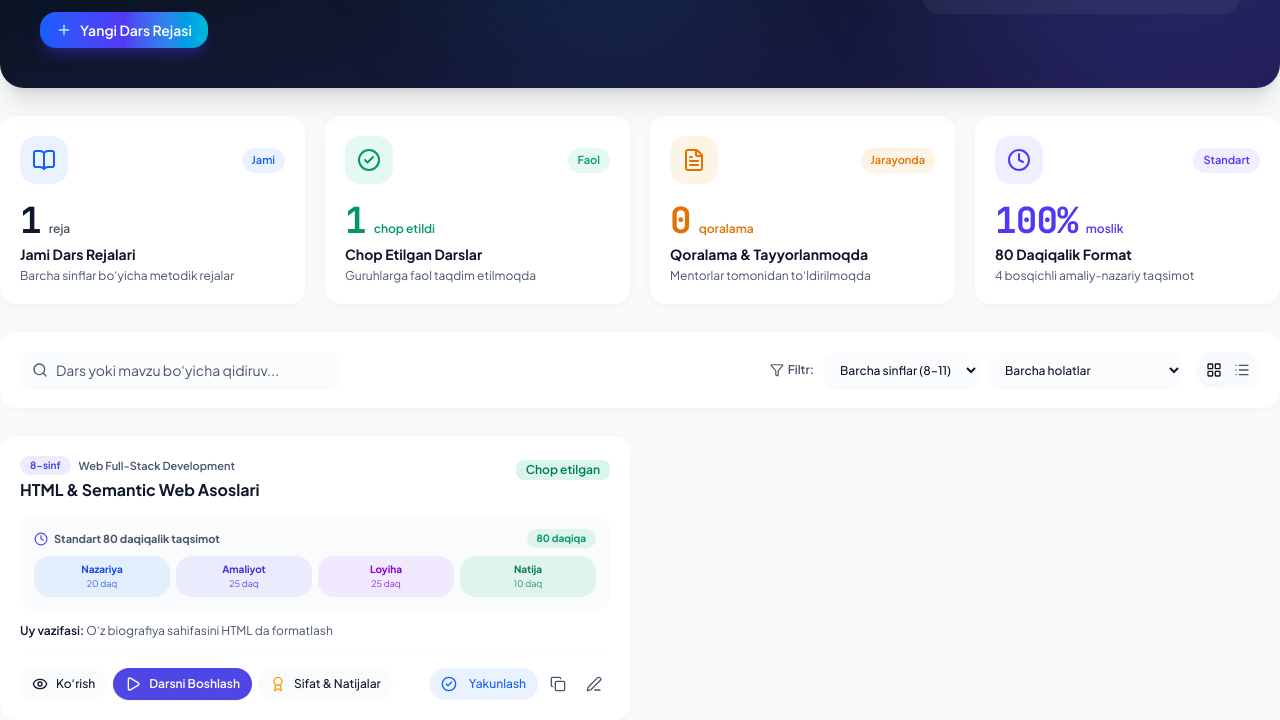
Test: Modules 08 - 11 Frontend Integration Tests › Module 08: LessonManager › toggles interactive presentation delivery mode
(page scrolled)
Expected: the heading "HTML & Semantic Web Asoslari" is shown, [20,479,260,501]
Click the button "Darsni Boshlash": (183, 684) [113,668,252,700]
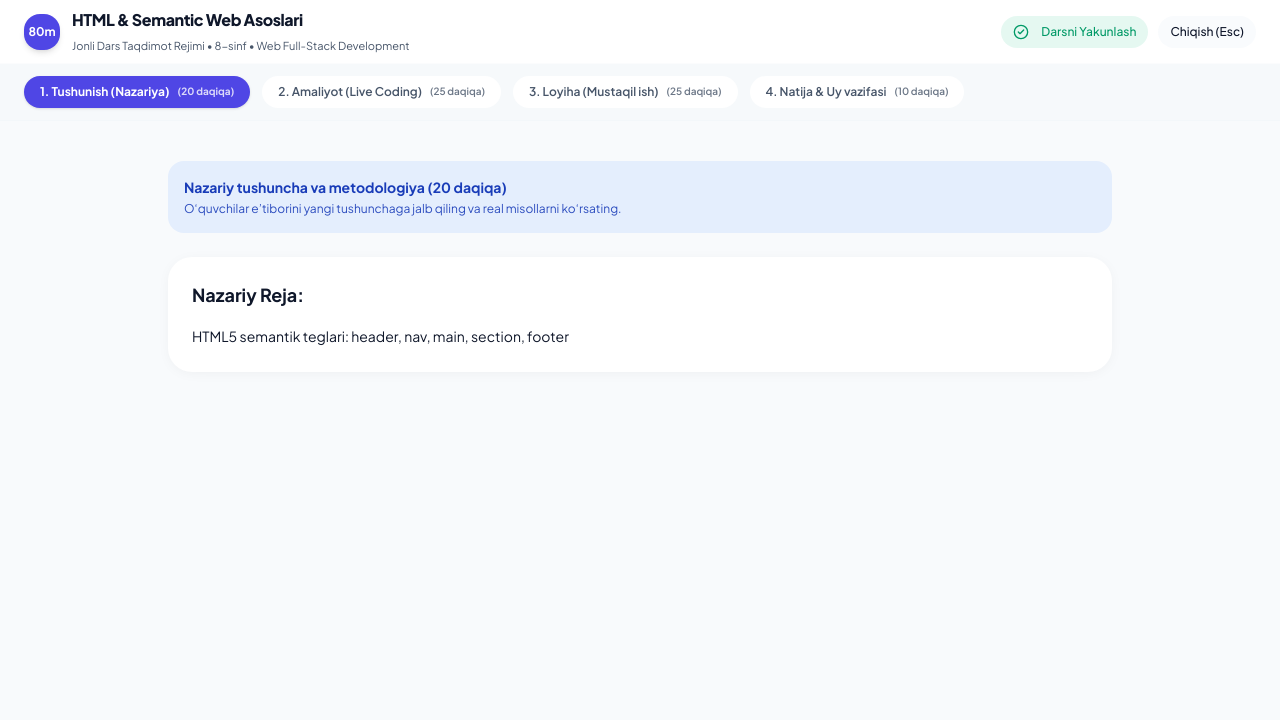
Result: the text "Jonli Dars Taqdimot Rejimi" is shown at [72,38,214,52]
Result: the text "1. Tushunish (Nazariya)" is shown at [40,84,170,100]
